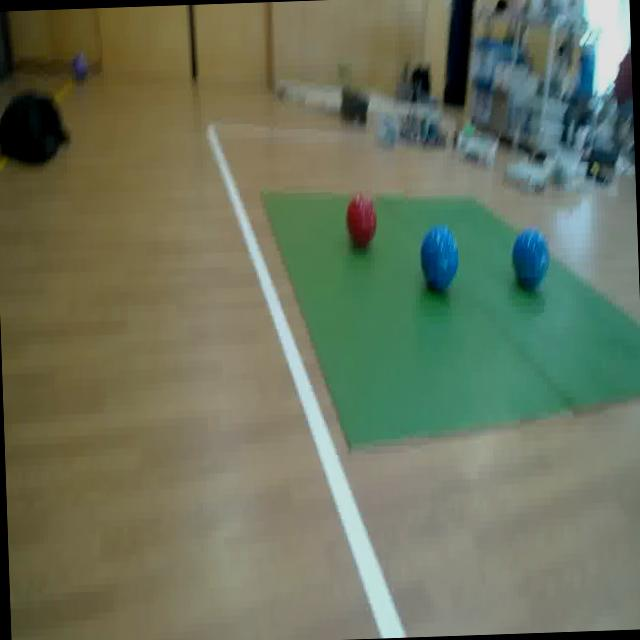blue_ball: (417, 218, 463, 297), (508, 226, 550, 294)
purple_ball: (71, 50, 91, 80)
red_ball: (342, 190, 378, 252)
